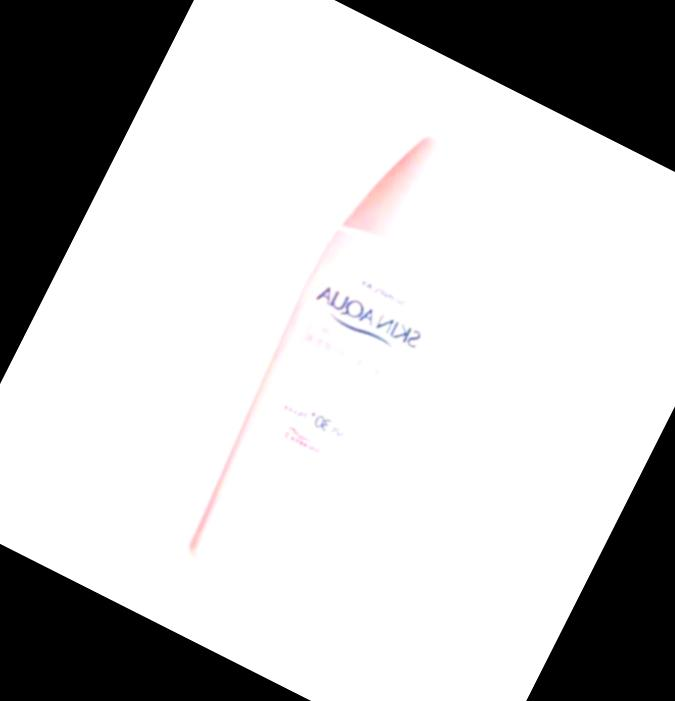cosmetic: (169, 110, 520, 618)
